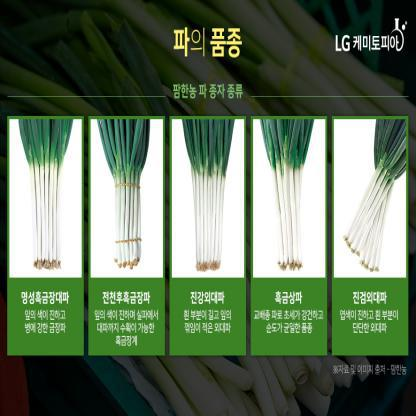green onion: (343, 118, 408, 268), (182, 110, 233, 276), (20, 98, 68, 272), (264, 115, 314, 266), (105, 118, 150, 272)
